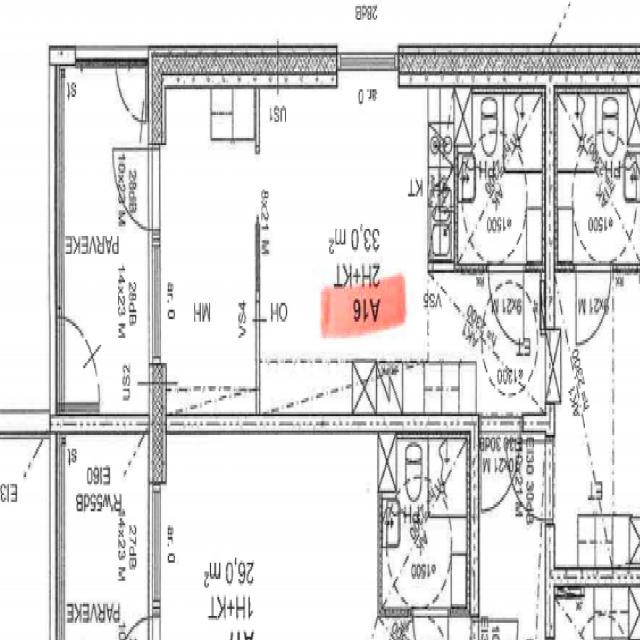door: (480, 416, 522, 522), (110, 149, 166, 228), (490, 263, 522, 340)
